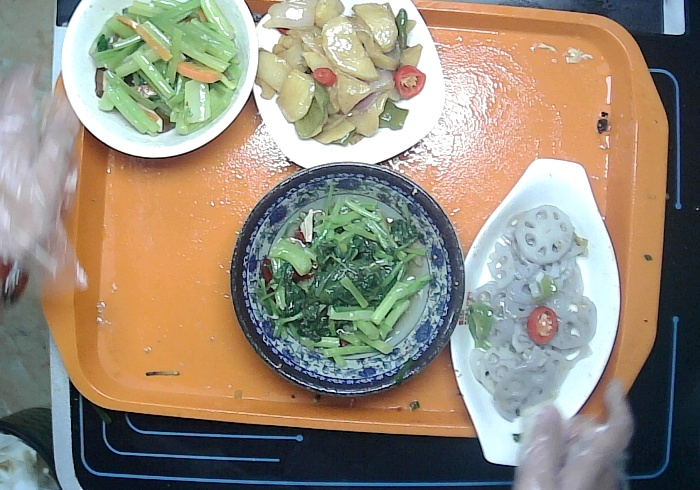ZNLD-Qing_Hua_Wan: (229, 160, 465, 399)
ZNLD-Si_Fang_Wan: (251, 1, 446, 171)
ZNLD-Tang_Wan: (59, 1, 259, 159)
ZNLD-Yu_Pan: (448, 157, 622, 469)
